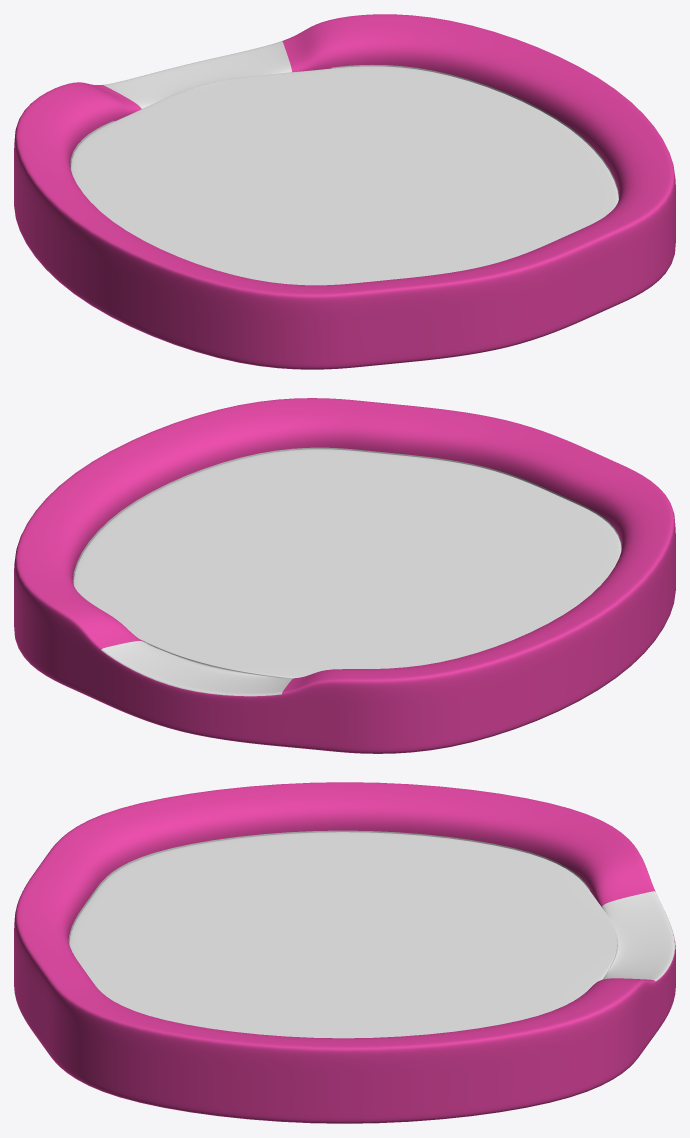
File: endPlatform.fbx
3 renders of one model, top to bottom at view 1: azimuth 30°, elevation 25°; view 2: azimuth 150°, elevation 25°; view 3: azimuth 270°, elevation 25°, orthographic.
Parts seen in each view (by area): view 1: Cube; view 2: Cube; view 3: Cube.
Part boxes in pixels (<box>): Cube: <box>14,14,675,369</box>; Cube: <box>14,398,675,753</box>; Cube: <box>14,782,675,1123</box>.
Bounding box in the file's own units: 291 × 39.05 × 302.
